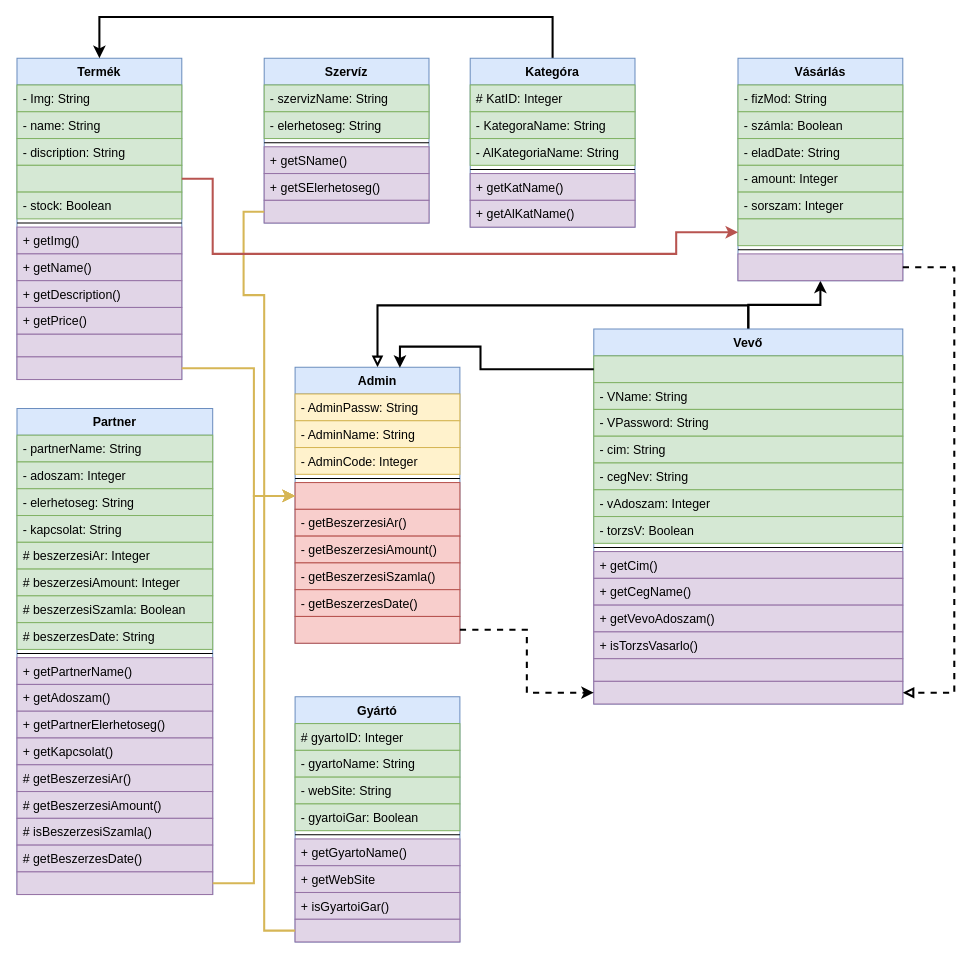
Image size: 971x959. Some labels were removed from this diagram. Here are the shapes that lost their labels. From the top down, the centre of each, then its label:
At [99,178]: "- price: Integer".
At [346,211]: "# szervizKonstruktor()".
At [820,232]: "- egysegAr: Integer".
At [820,267]: "+ vasarlas()".
At [99,345]: "+ isOnStock()".
At [99,368]: "# termeKonstruktor()".
At [748,369]: "# VID: Integer".
At [377,495]: "- anyKonstruktor()".
At [377,629]: "+ adminLogin".
At [748,669]: "+ register()".
At [748,692]: "+ login()".
At [114,883]: "# partnerKonstruktor()".
At [377,930]: "# gyartoiKonstruktor()".
